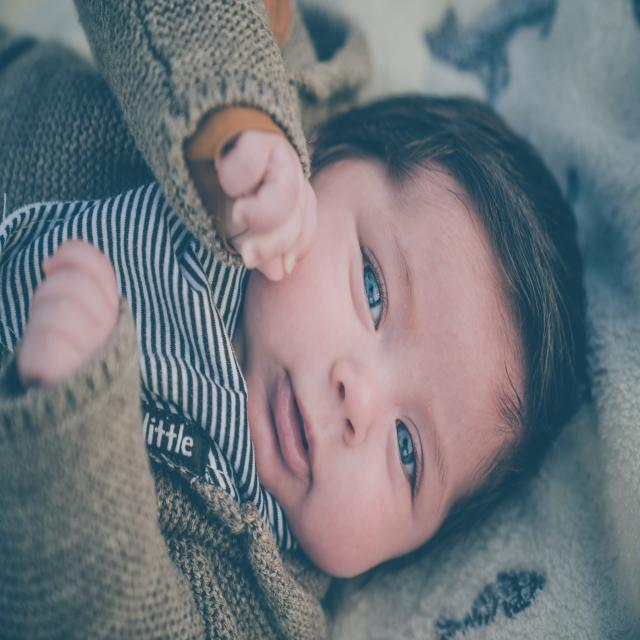non-dog: (1, 0, 591, 640)
